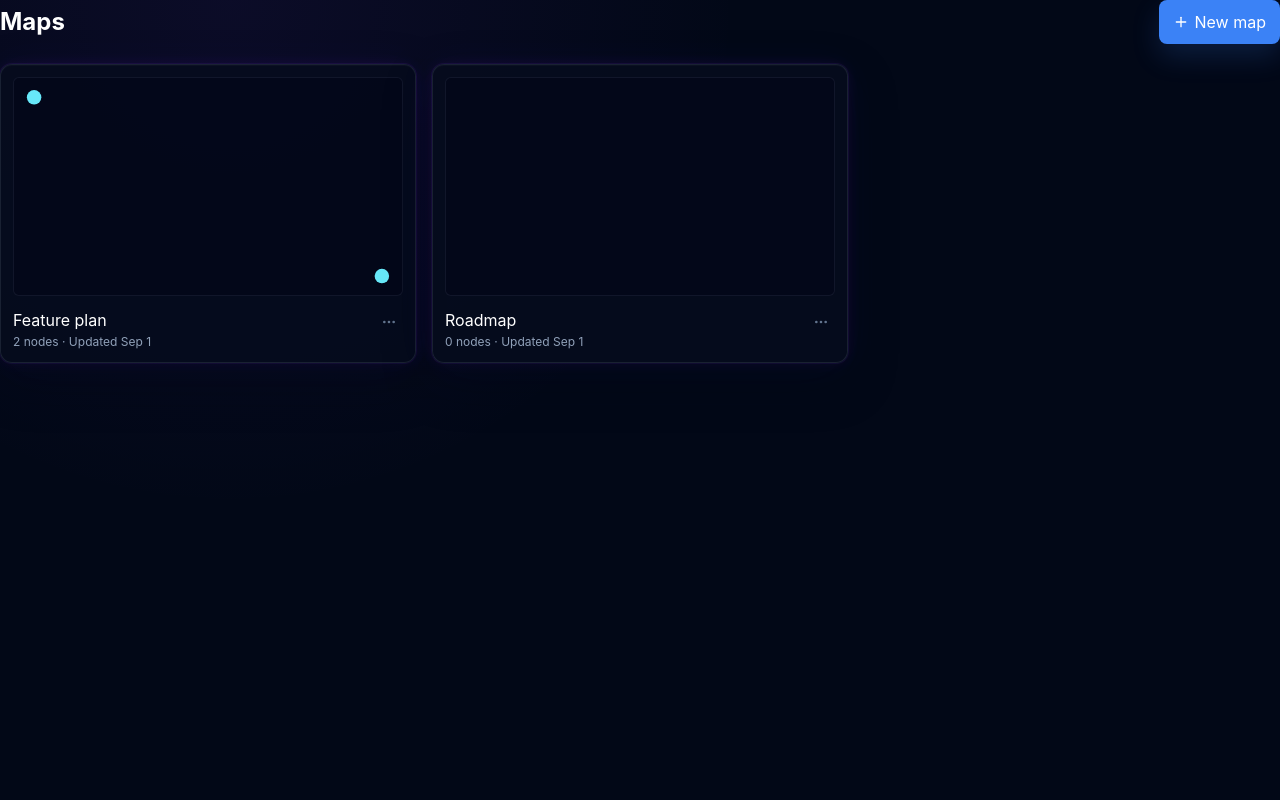
Test: MapLibraryPage › archives the new row and shows the error when the template graph fails to save
This screenshot has width=1280, height=800.
Expected: the button "Feature plan" is shown, [13,308,107,332]
Click the button "New map": (1219, 22) [1158,0,1279,44]
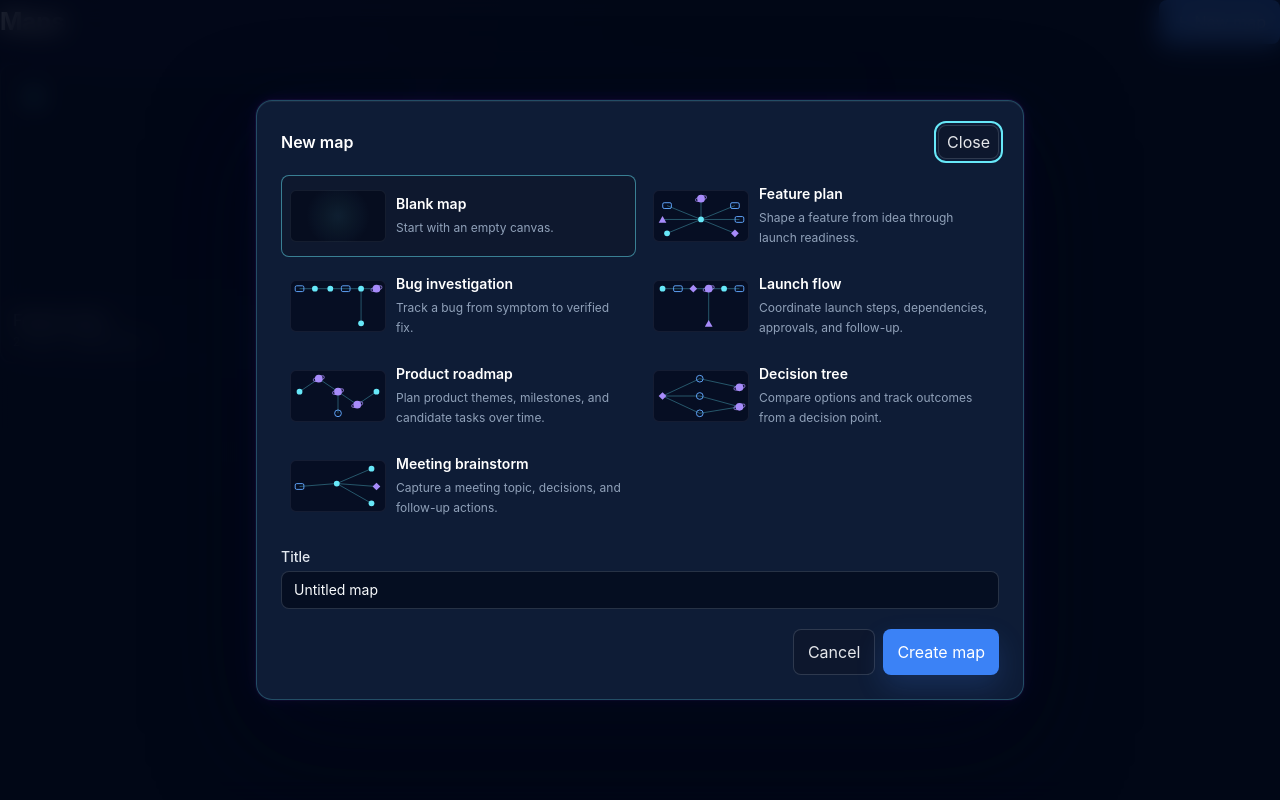
Click the radio button labelled "Feature plan": (822, 216) [644,175,999,257]
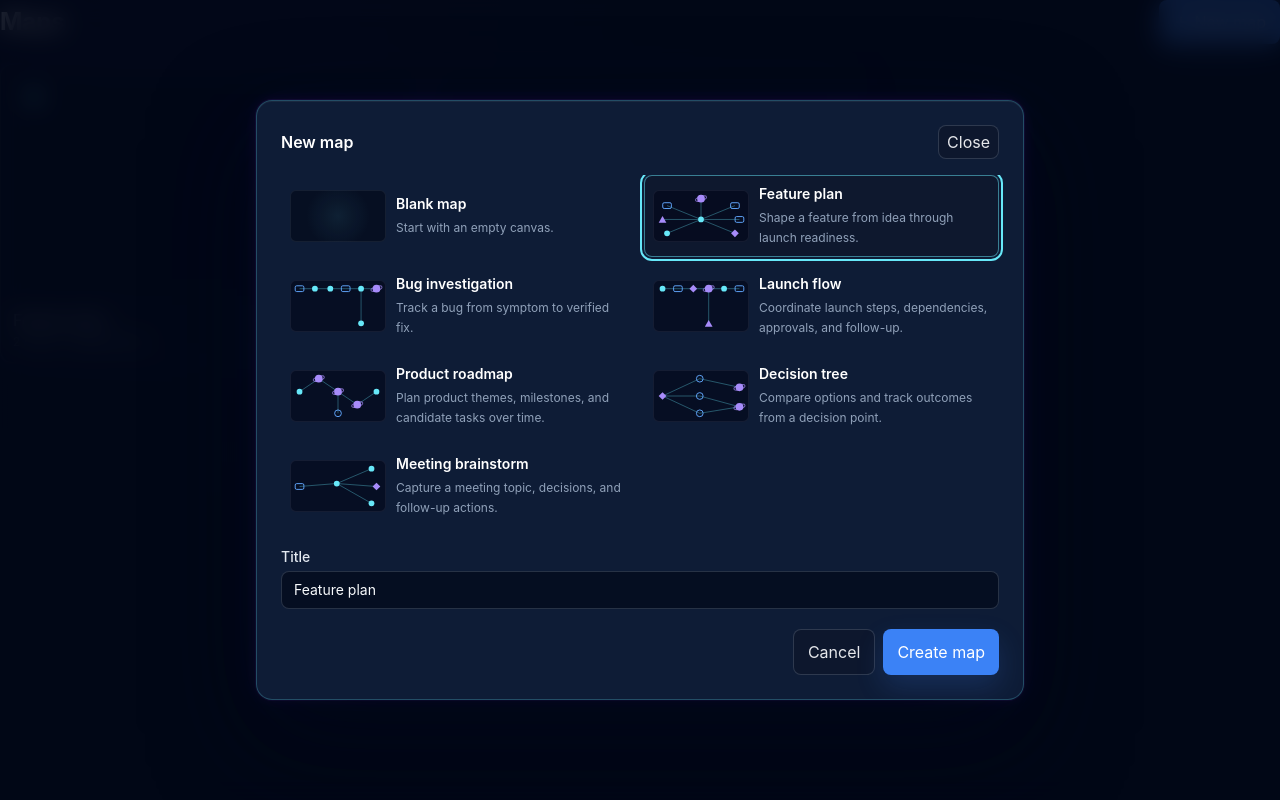
Click the button "Create map": (941, 652) [883,629,999,675]
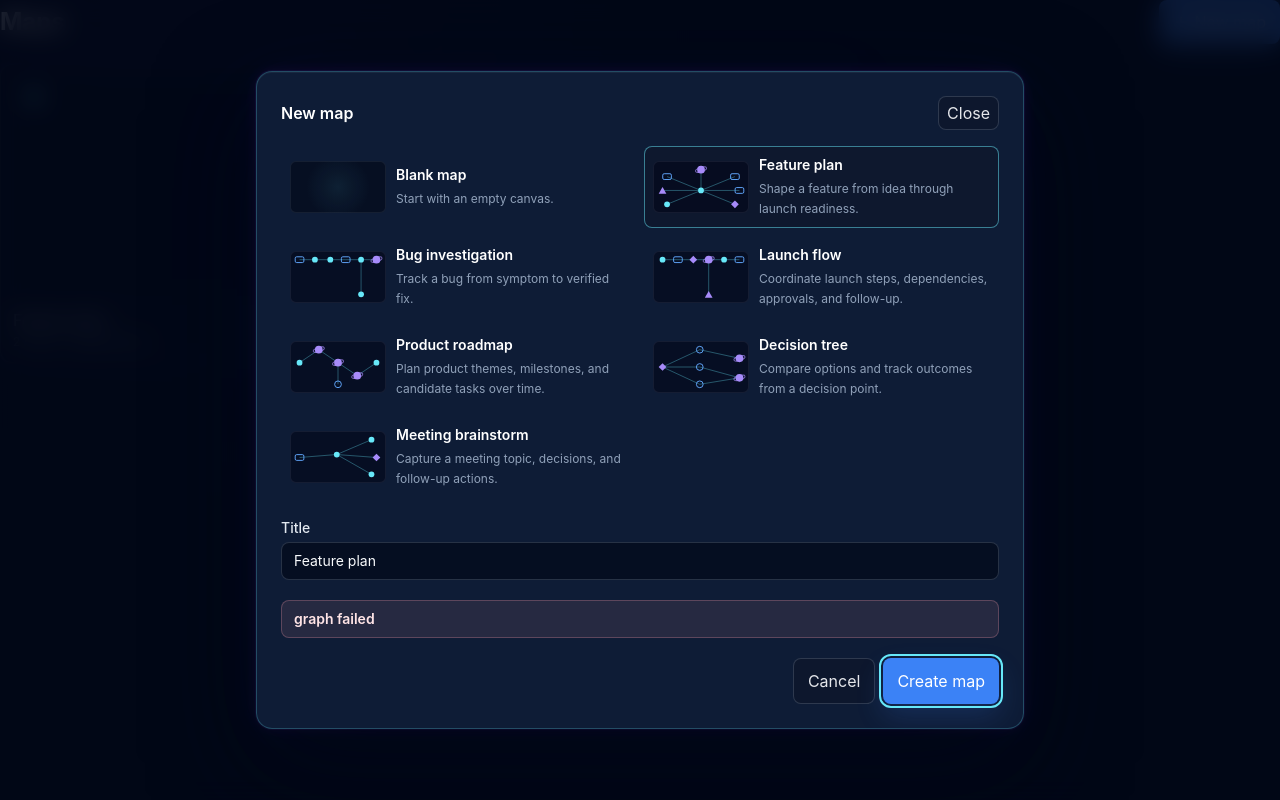
Now the text "graph failed" is shown, box [281,600,999,638]
